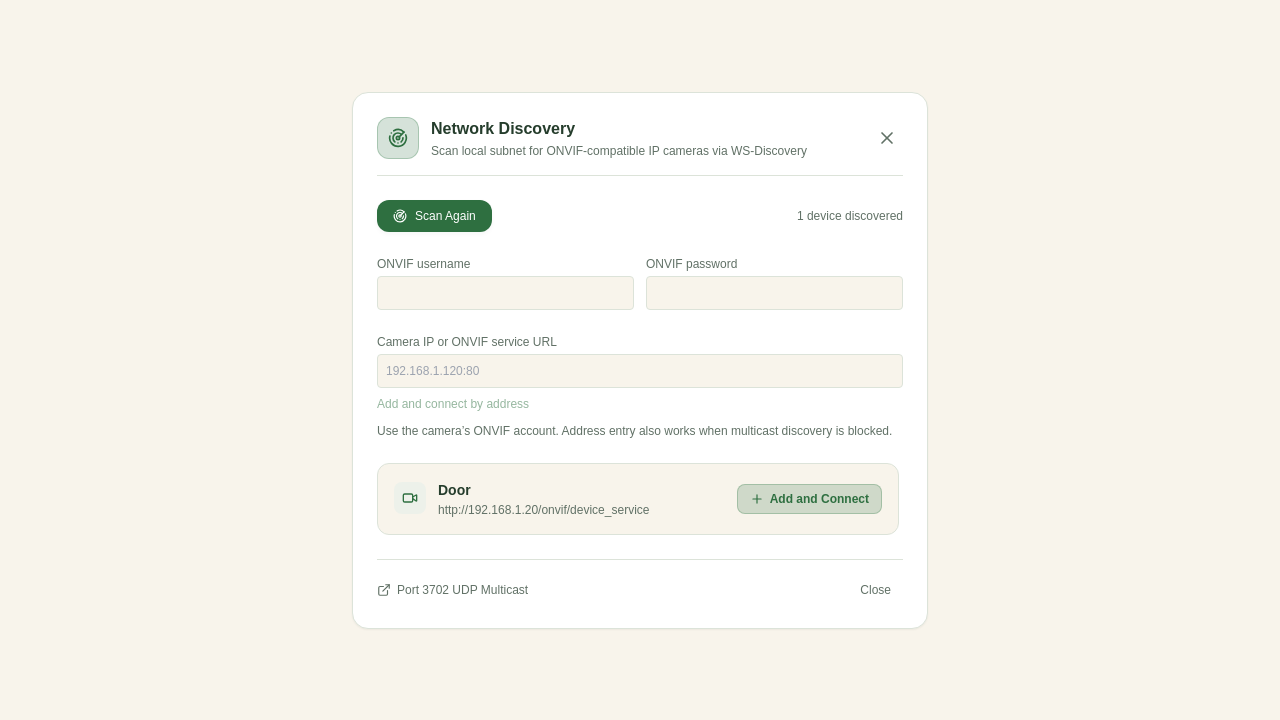
Test case: scans on opening and adds and connects a discovered ONVIF camera
Expected: the heading "Door" is shown, [438, 482, 471, 498]
Type "operator" into the field labelled "ONVIF username" at (506, 292), box [377, 276, 634, 310]
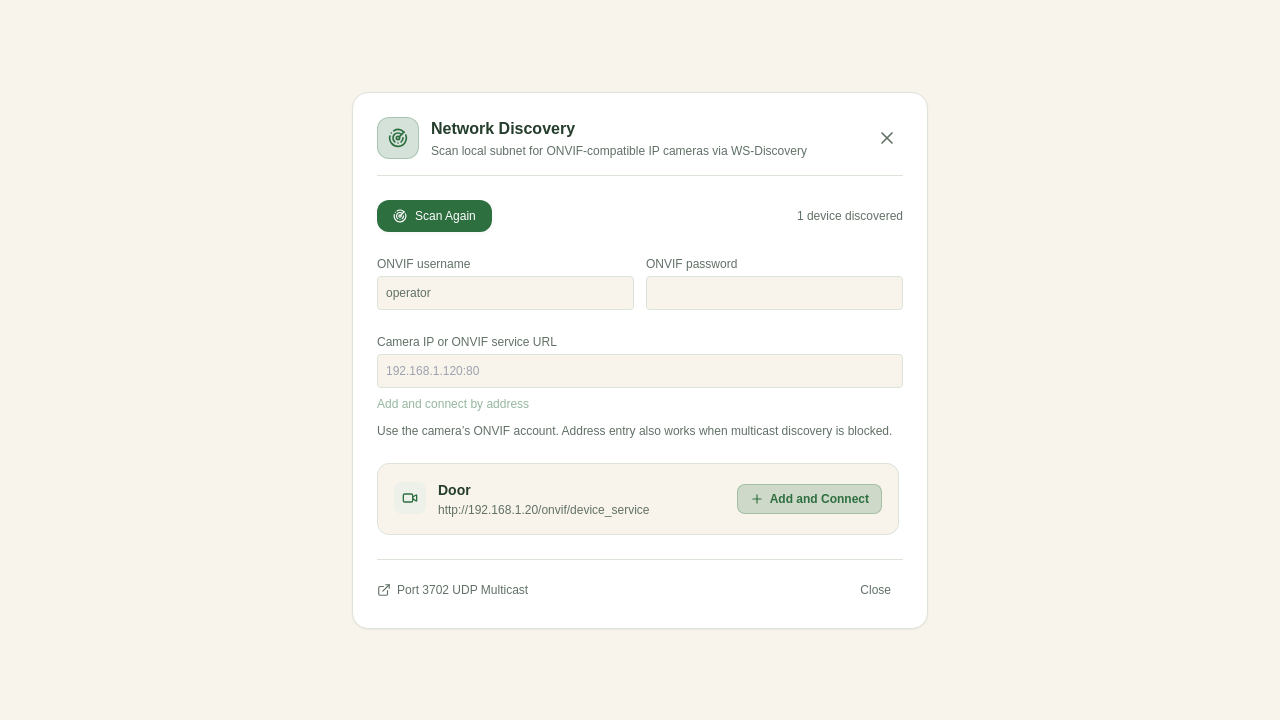
Type "test-pass" into the password field labelled "ONVIF password" at (774, 292), box [646, 276, 903, 310]
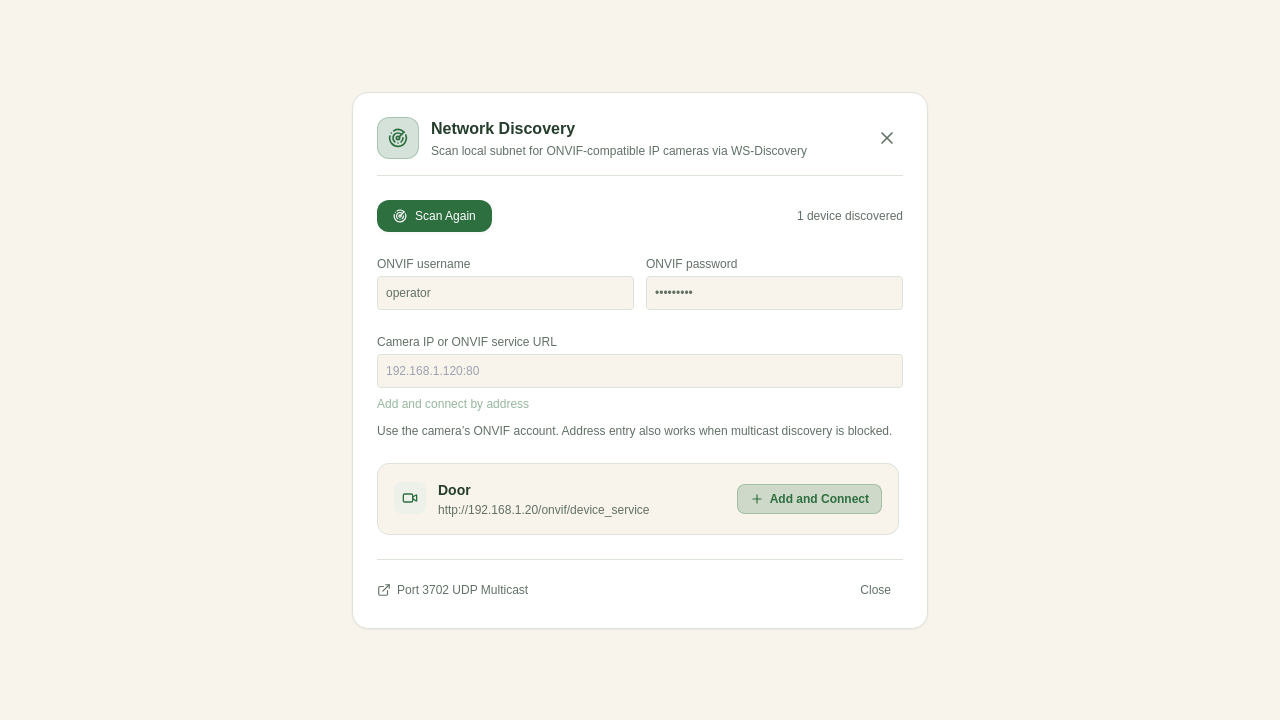
Click the button "Add and Connect" at (809, 498), box [737, 484, 882, 514]
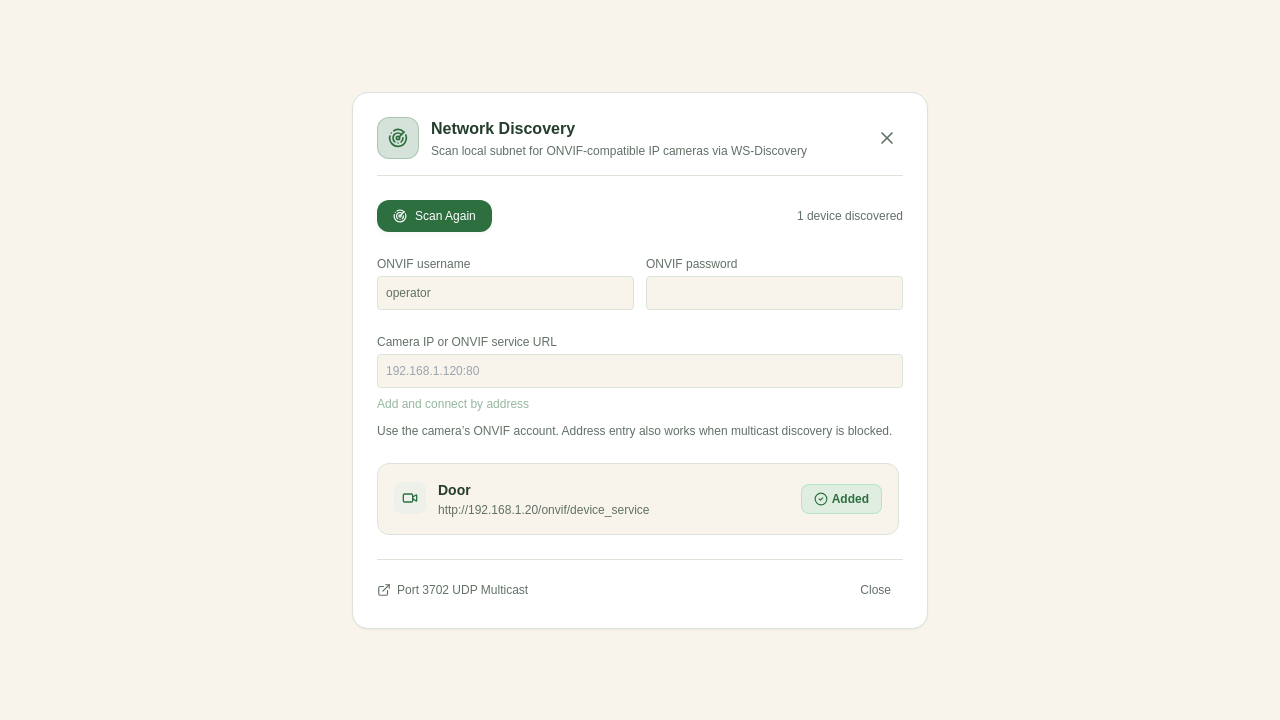
Result: the text "Added" is shown at [801, 484, 882, 514]
